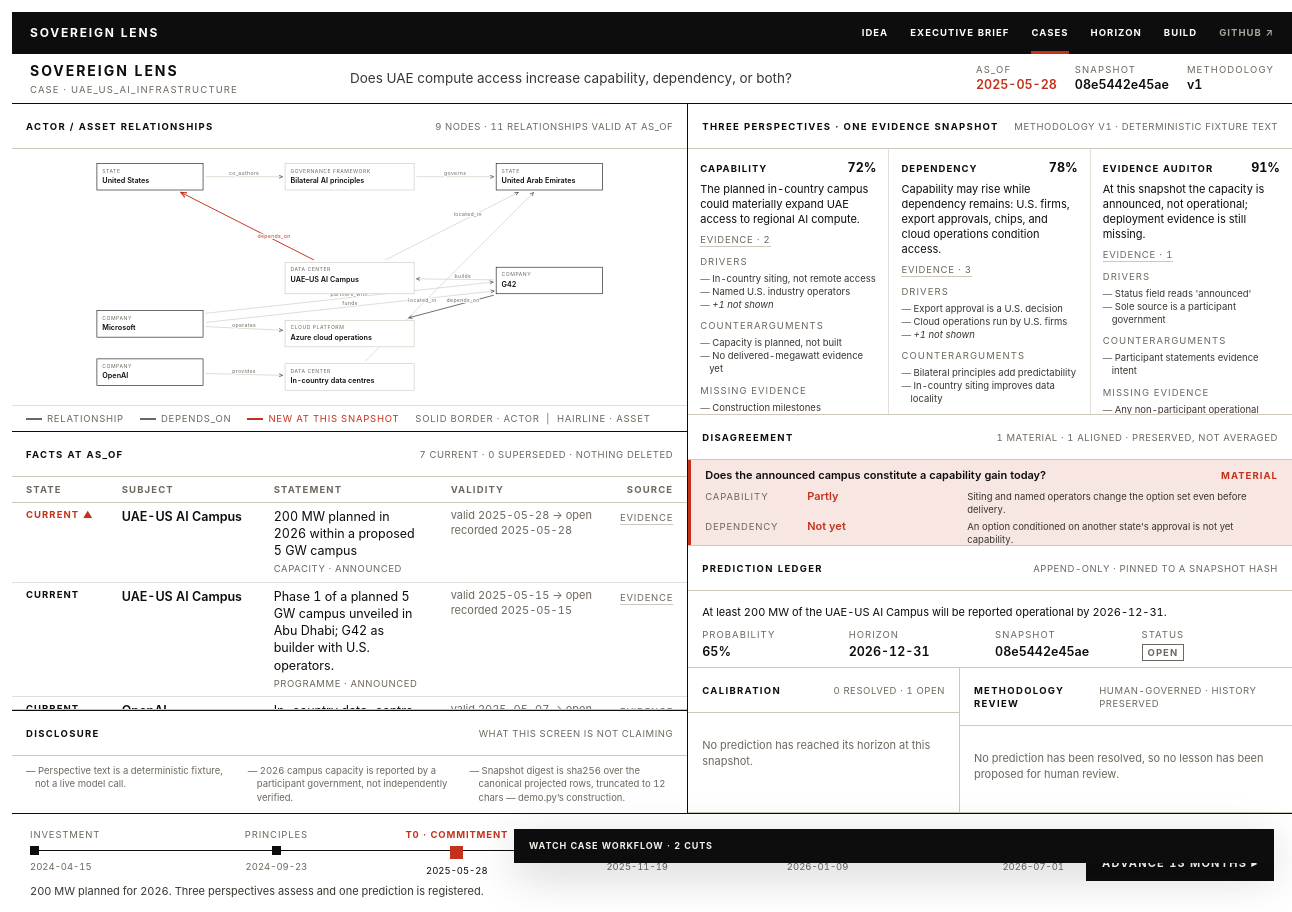
Test: advance thirteen months › offers a rewind so the demo can be re-run
Click the button "Advance 13 months ▸" at (1180,863), box [1086,846,1274,881]
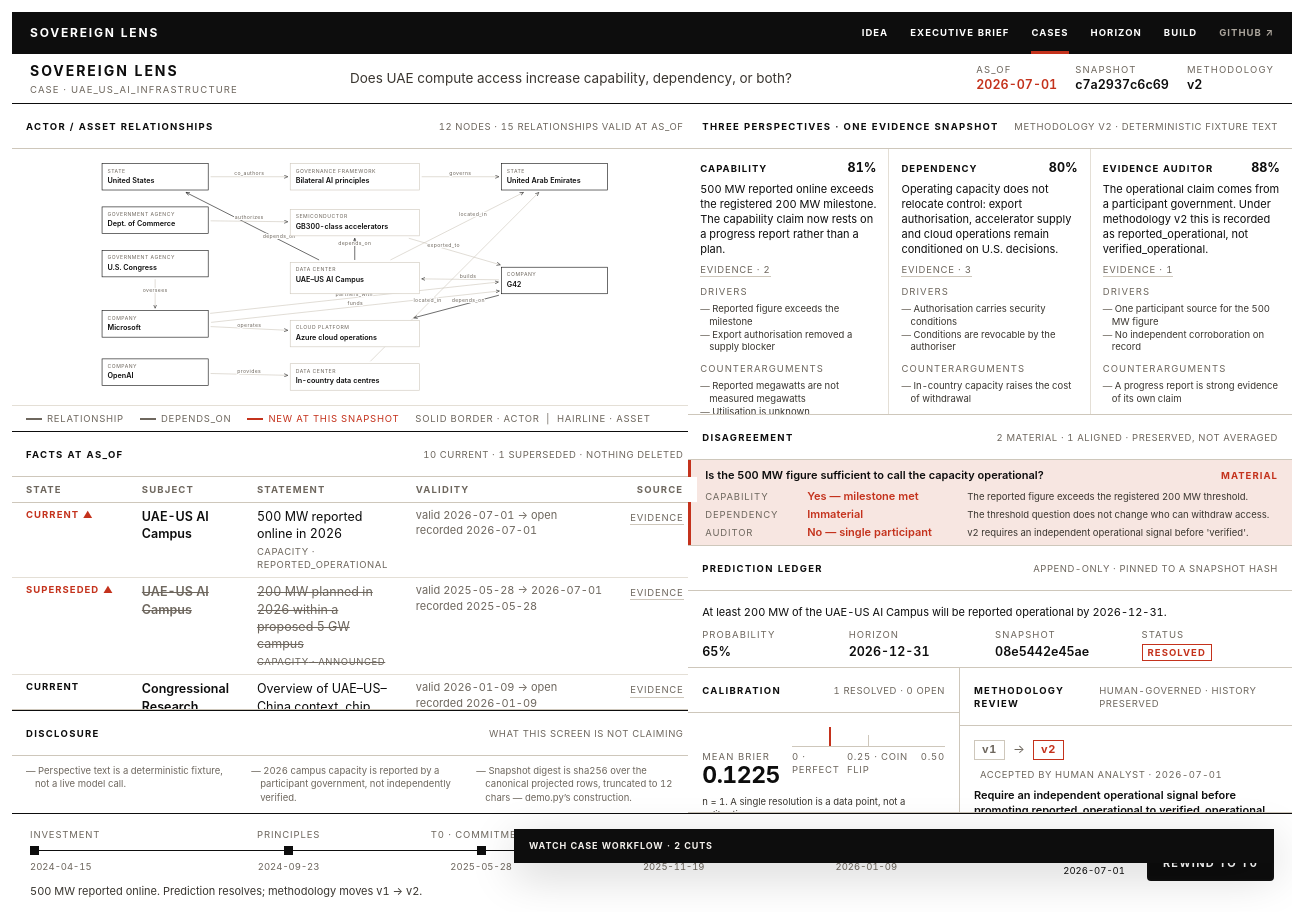
Click the button "Rewind to T0" at (1210,863), box [1147,846,1274,881]
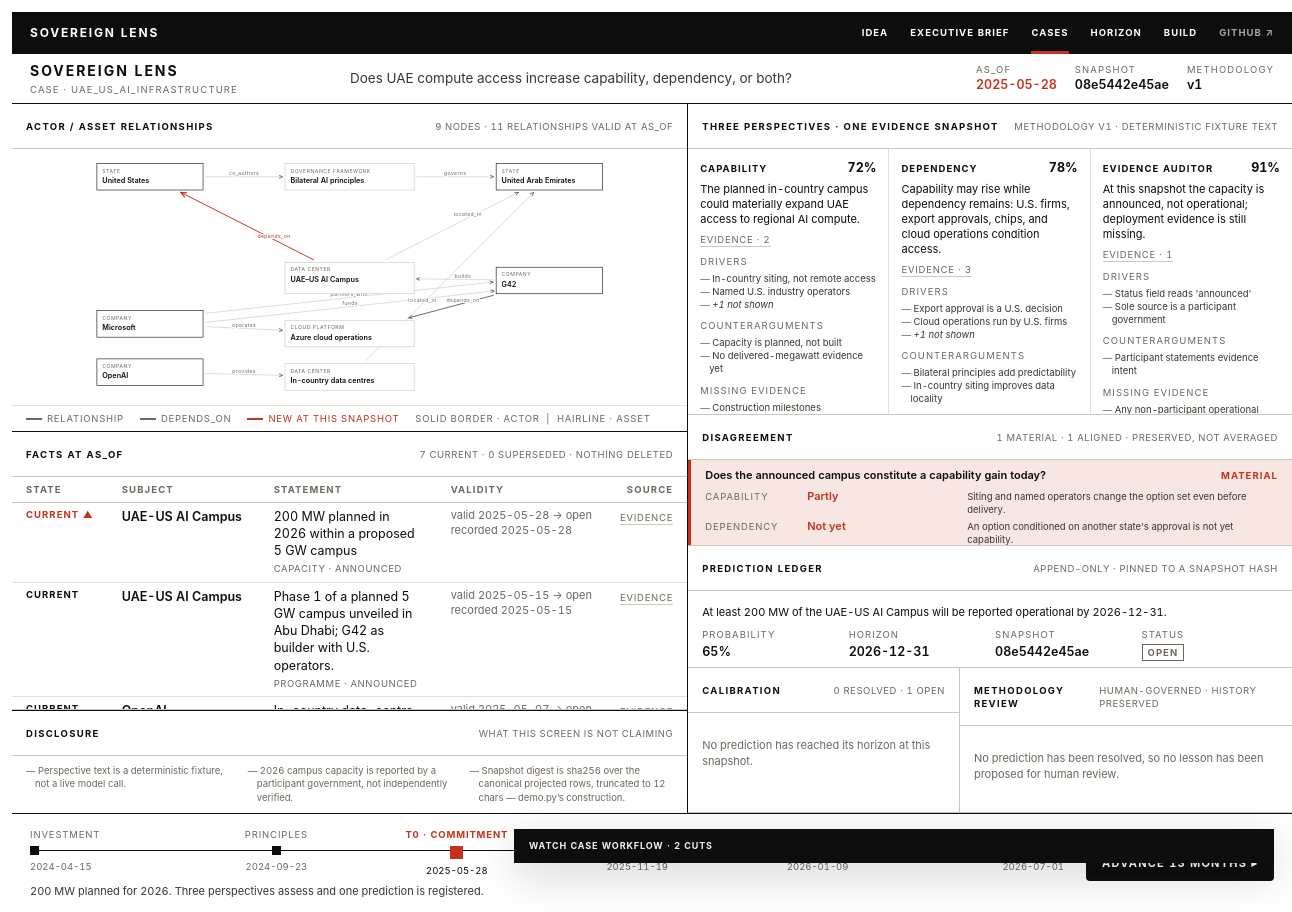
Expected: the text with test id "as-of" reads "2025-05-28", [976,77,1057,92]
Expected: the text with test id "brier" is gone
